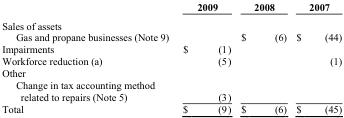table: (1, 1, 341, 114)
table column: (1, 1, 175, 114), (175, 1, 235, 114), (235, 1, 290, 114), (290, 1, 341, 114)
table column header: (1, 1, 341, 16)
table projected row header: (1, 16, 341, 31), (1, 66, 341, 78)
table row: (1, 78, 341, 102), (1, 1, 341, 16), (1, 16, 341, 31), (1, 42, 341, 54), (1, 54, 341, 66), (1, 66, 341, 78), (1, 102, 341, 114), (1, 31, 341, 42)
